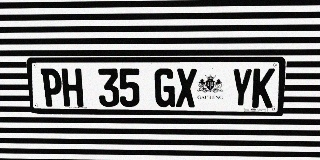3: (98, 68, 119, 107)
5: (119, 68, 140, 107)
G: (154, 68, 175, 107)
H: (61, 68, 83, 107)
K: (251, 68, 275, 108)
P: (40, 68, 63, 107)
X: (176, 68, 197, 107)
Y: (230, 68, 253, 108)
